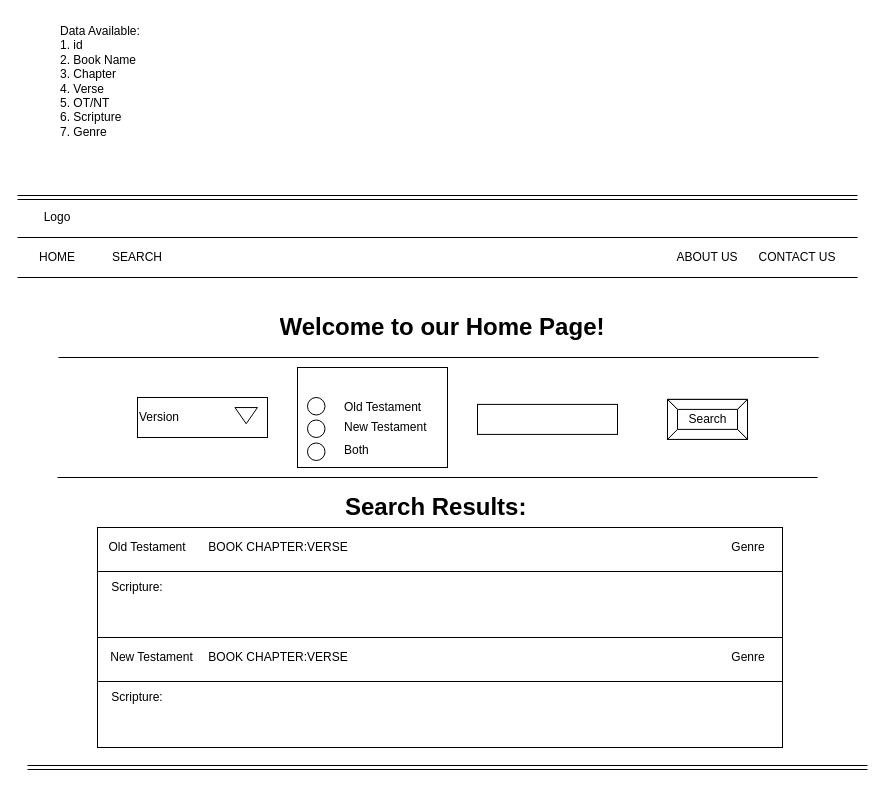
Some shapes in this 885 by 787 pixel diagram are drawn without their labels. The box of each missing label's shape, as (x1, y1, x2, y2) in pixels:
Enter Search Text Here: (476, 403, 618, 434)
Select Option:: (296, 366, 448, 468)
